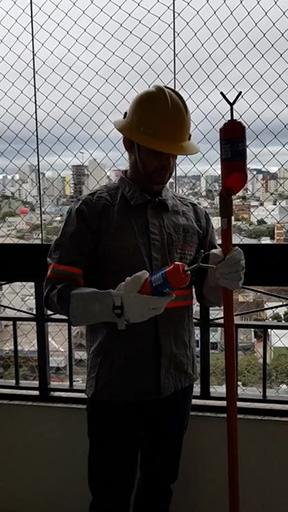Detector_Tensao_Contato: (136, 253, 216, 300), (218, 89, 248, 196)
Vara_Manobra: (218, 190, 239, 512)
